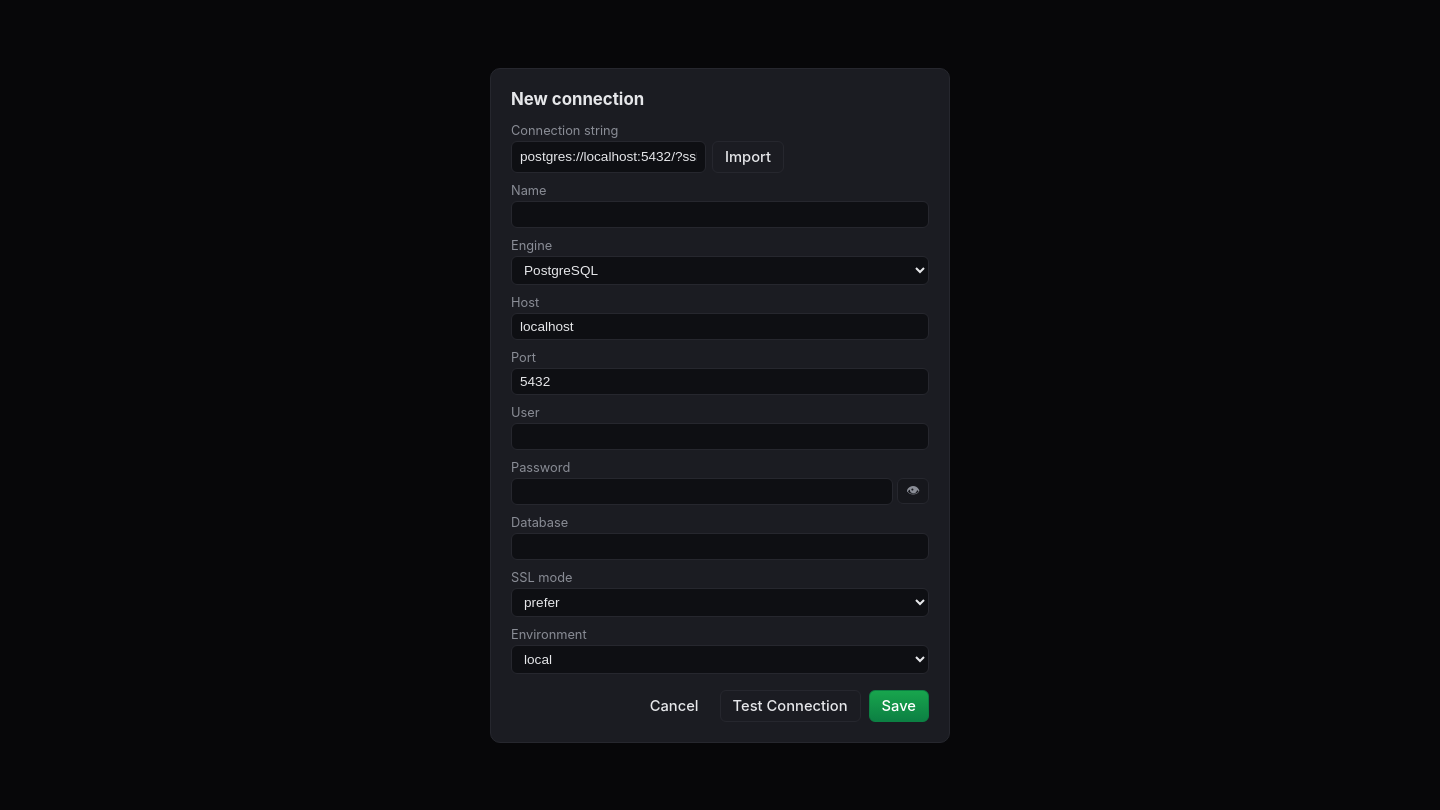
Scenario: ConnectionModal › imports a URL into the fields
Replace the text in the field named "connection url" with "postgres://ada:pw@db:6543/appdb" at (608, 156), box [511,140,706,172]
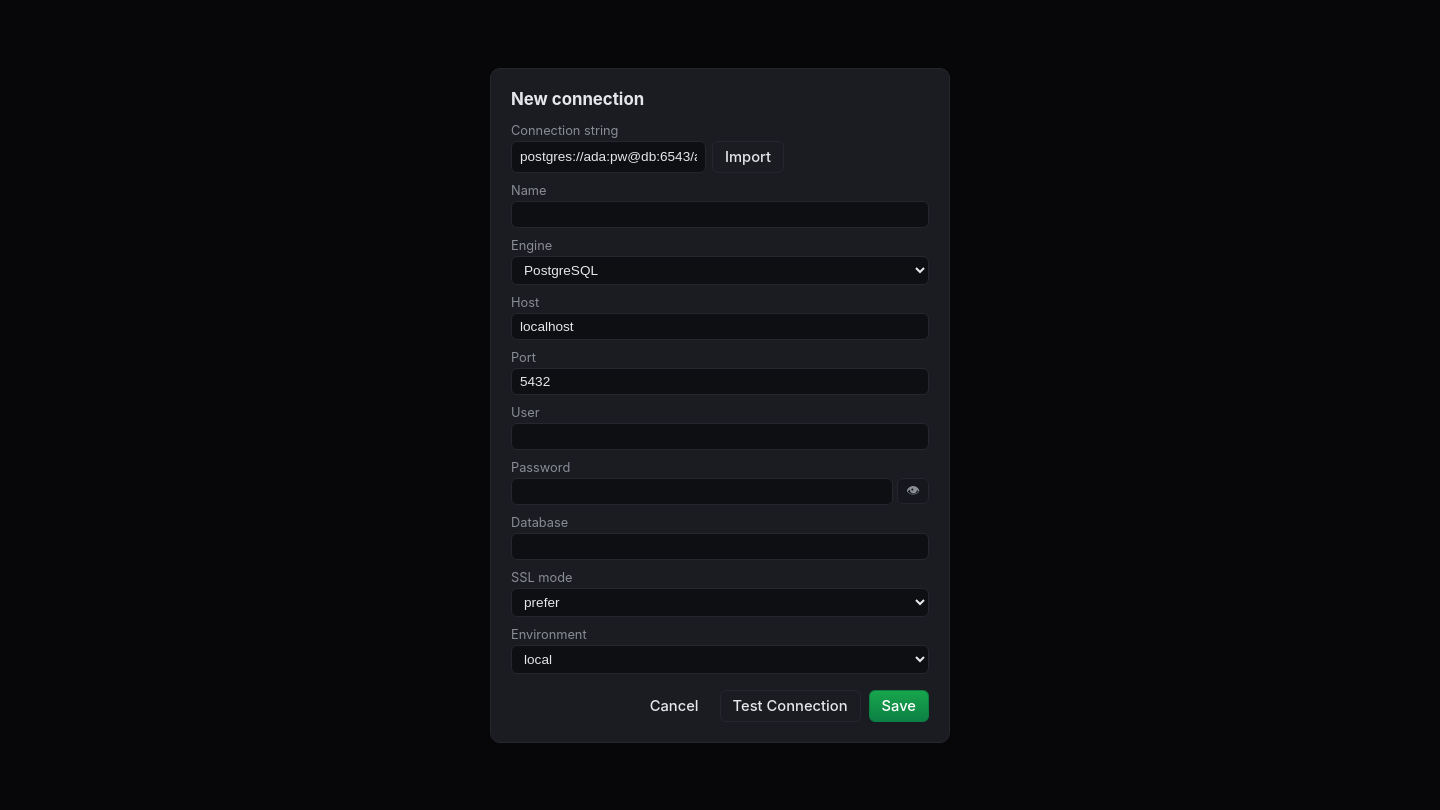
Click the button "Import" at (748, 156), box [712,140,784,172]
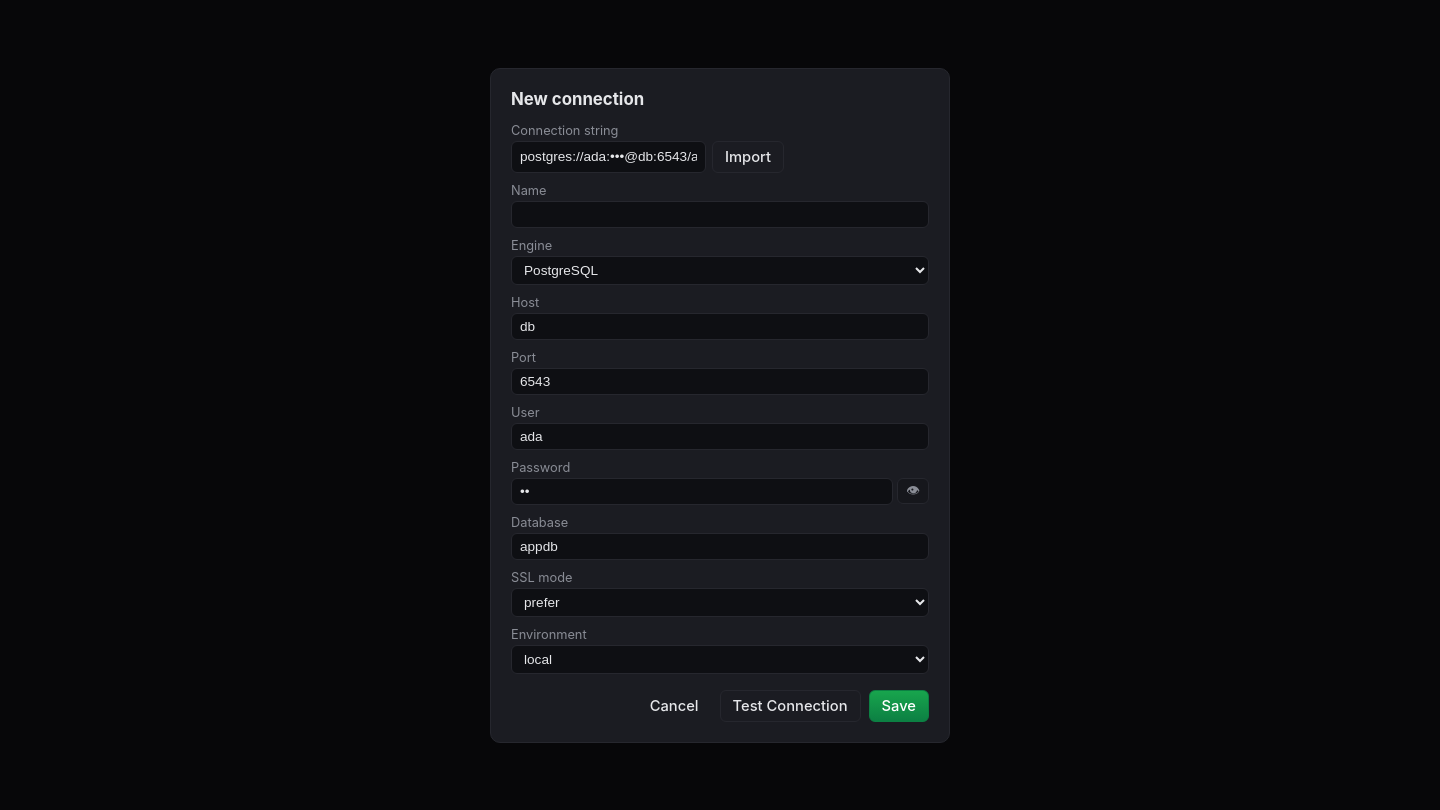
Check: the field labelled "Host" holds "db", box [511,312,929,340]
Check: the number field labelled "Port" holds "6543", box [511,368,929,394]
Check: the field labelled "User" holds "ada", box [511,422,929,450]
